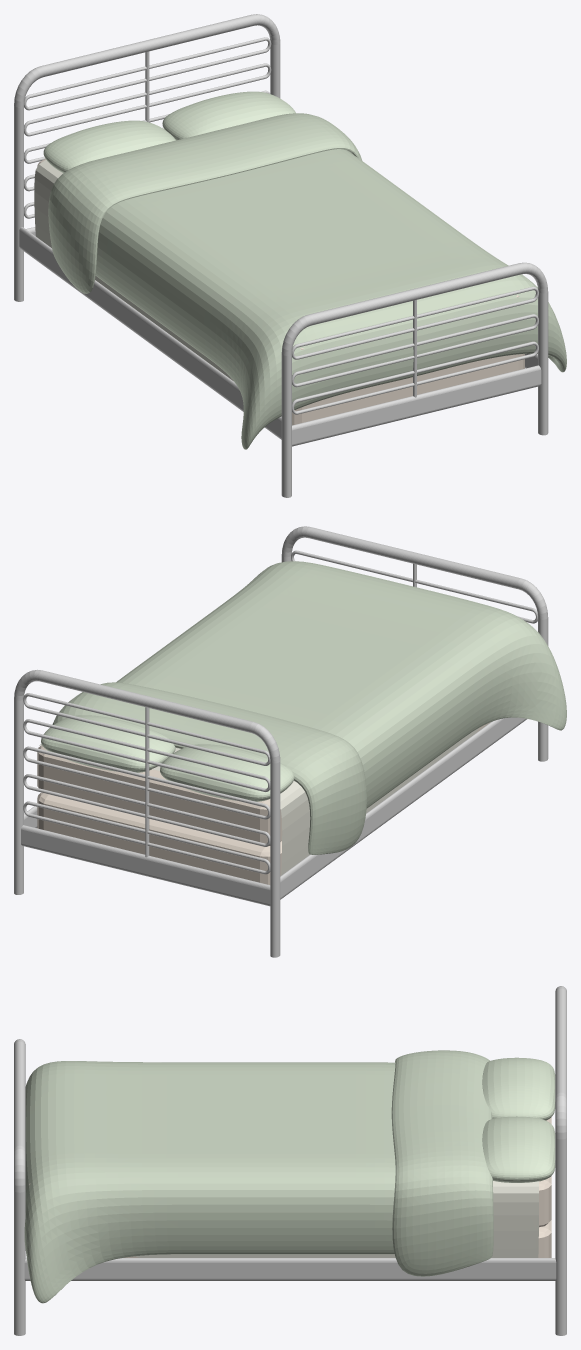
File: sweethome3d-blendswap-cc-0-bed-1.glb
The picture shows the model from 3 angles, top to bottom: view 1: azimuth 30°, elevation 25°; view 2: azimuth 150°, elevation 25°; view 3: azimuth 270°, elevation 25°; orthographic projection.
Parts seen in each view (by area): view 1: Plane.003_Plane.004, Circle, Cube.009_Cube.010, Cube.008_Cube.006, Cube.010_Cube.011, Plane.004_Plane.005; view 2: Plane.003_Plane.004, Circle, Cube.008_Cube.006, Cube.007_Cube.004, Cube.010_Cube.011, Cube.009_Cube.010, Plane.004_Plane.005; view 3: Plane.003_Plane.004, Circle, Plane.004_Plane.005, Cube.010_Cube.011, Cube.009_Cube.010, Cube.007_Cube.004, Cube.008_Cube.006.
Part boxes in pixels (x1,y1,x2,y2): Plane.003_Plane.004: (48,113,566,449); Circle: (14,14,548,497); Cube.009_Cube.010: (43,120,175,172); Cube.008_Cube.006: (231,354,524,425); Cube.010_Cube.011: (162,91,295,140); Plane.004_Plane.005: (34,160,231,378); Plane.003_Plane.004: (52,561,566,854); Circle: (14,526,548,957); Cube.008_Cube.006: (37,722,490,884); Cube.007_Cube.004: (37,745,282,845); Cube.010_Cube.011: (41,715,175,772); Cube.009_Cube.010: (160,744,294,801); Plane.004_Plane.005: (39,728,478,875); Plane.003_Plane.004: (24,1050,493,1303); Circle: (14,986,566,1335); Plane.004_Plane.005: (136,1181,538,1257); Cube.010_Cube.011: (482,1116,555,1182); Cube.009_Cube.010: (482,1057,555,1120); Cube.007_Cube.004: (29,1077,551,1227); Cube.008_Cube.006: (123,1220,551,1257).
Bounding box in the file's own units: 141 × 95.46 × 208.
